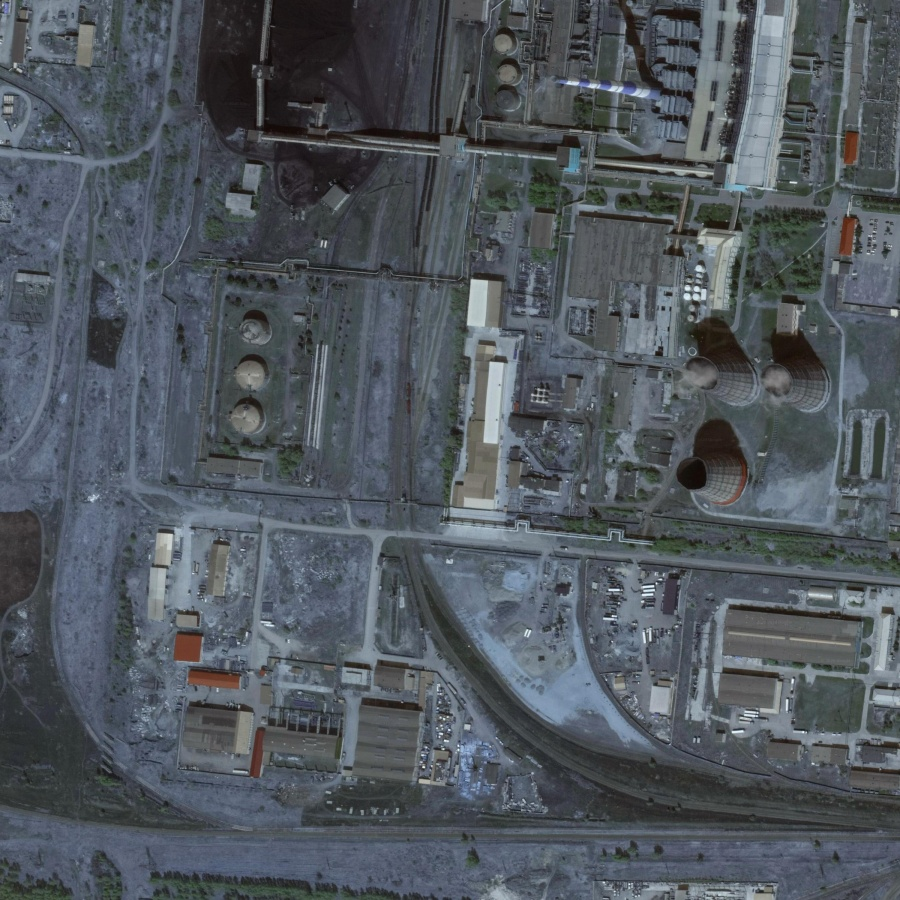PowerPlant: (668, 288, 857, 543), (190, 252, 338, 494)
